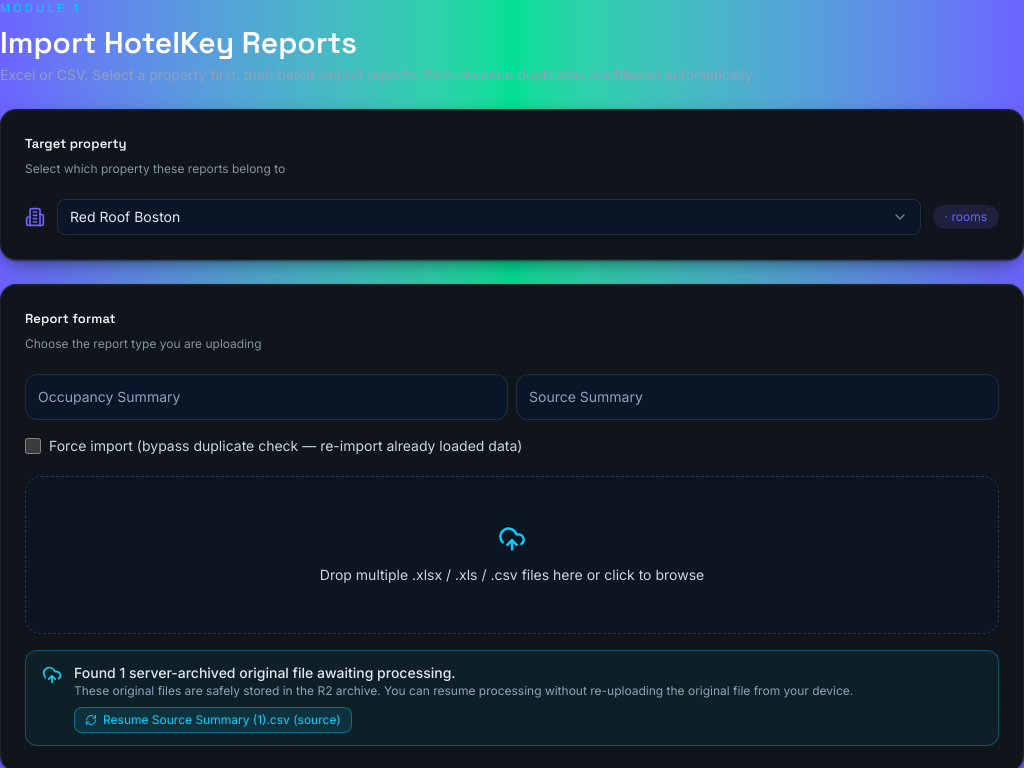
Test: Import <=18-File Batch & Regression Coverage › resumes server-archived original without device upload, resolves overlap conflict, and replaces predecessor
Expected: the text "Found 1 server-archived original file awaiting processing." is shown, [74,664,456,680]
Expected: the text "These original files are safely stored in the R2 archive" is shown, [74,682,853,698]
What coordinates should you click on to do the following:
click the button "Resume Source Summary (1).csv (source)"
I would click on:
 (213, 720)
Its box is [74,706,352,732].
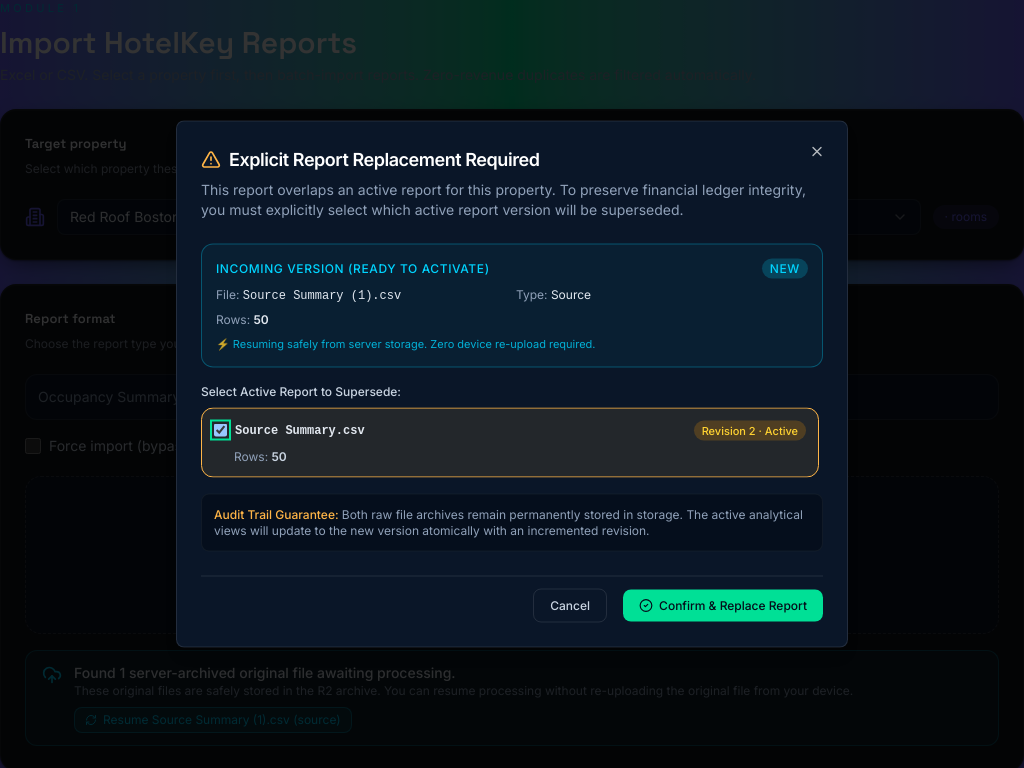
Expected: the heading "Explicit Report Replacement Required" is shown, [201,148,540,170]
Expected: the text "Resuming safely from server storage. Zero device re-upload required." is shown, [216,336,596,350]
Expected: the text "Source Summary.csv" is shown, [235,422,365,438]
What coordinates should you click on to do the following:
click the button "Confirm & Replace Report"
I would click on:
 (723, 606)
Its box is [623,590,823,622].
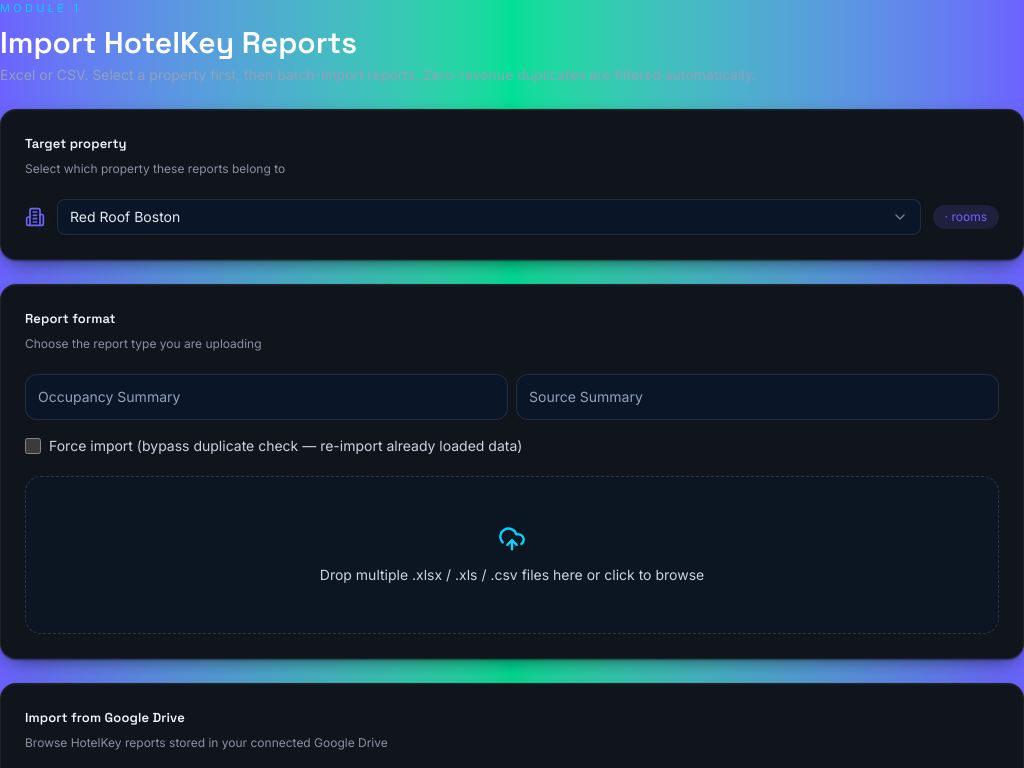
Expected: the heading "Explicit Report Replacement Required" is gone
Expected: the text "awaiting processing" is gone
